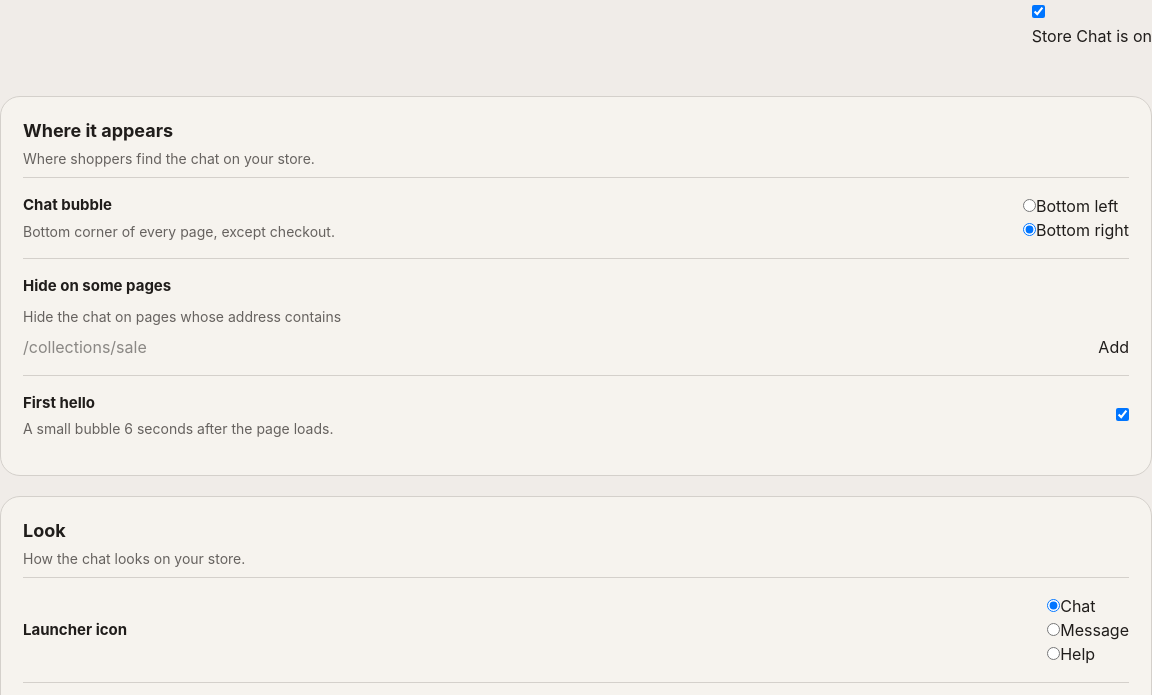
Test case: V16ChatStudio › publishes after the last change is saved
The width and height of the screenshot is (1152, 695).
What coordinates should you click on to do the following:
click the switch labelled "First hello"
I would click on:
 (1122, 415)
Its box is [1116,408,1129,421].
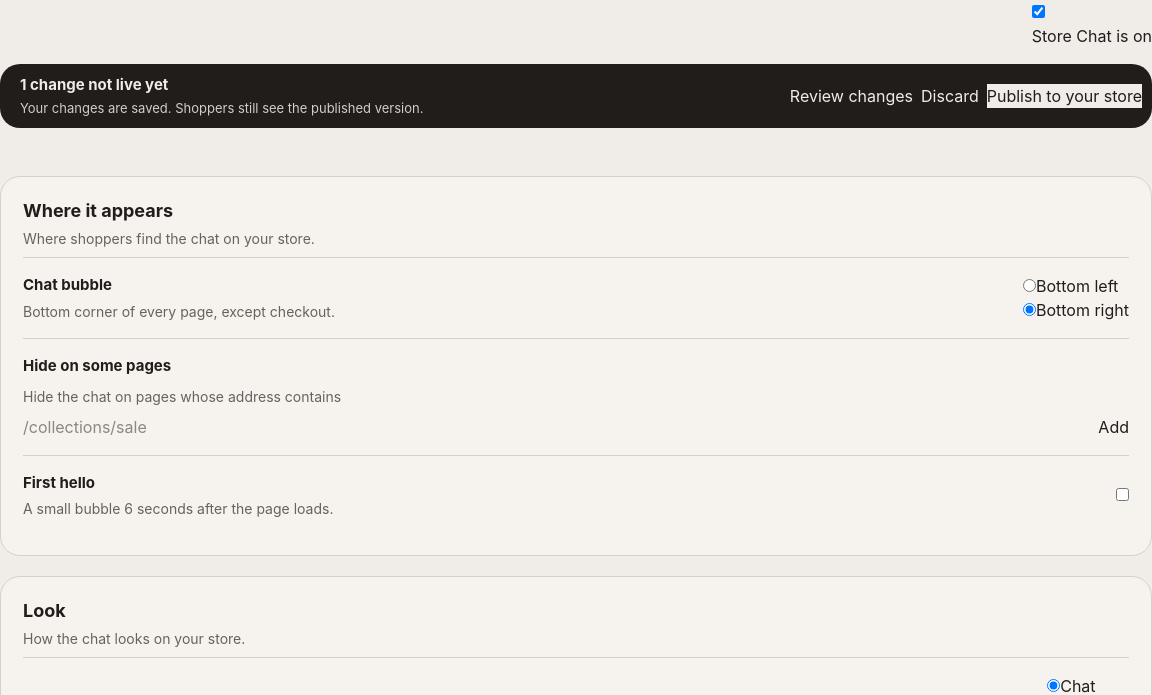
What coordinates should you click on to do the following:
click the button "Publish to your store"
I would click on:
 (1064, 96)
Its box is [987,84,1142,108].
(page scrolled)
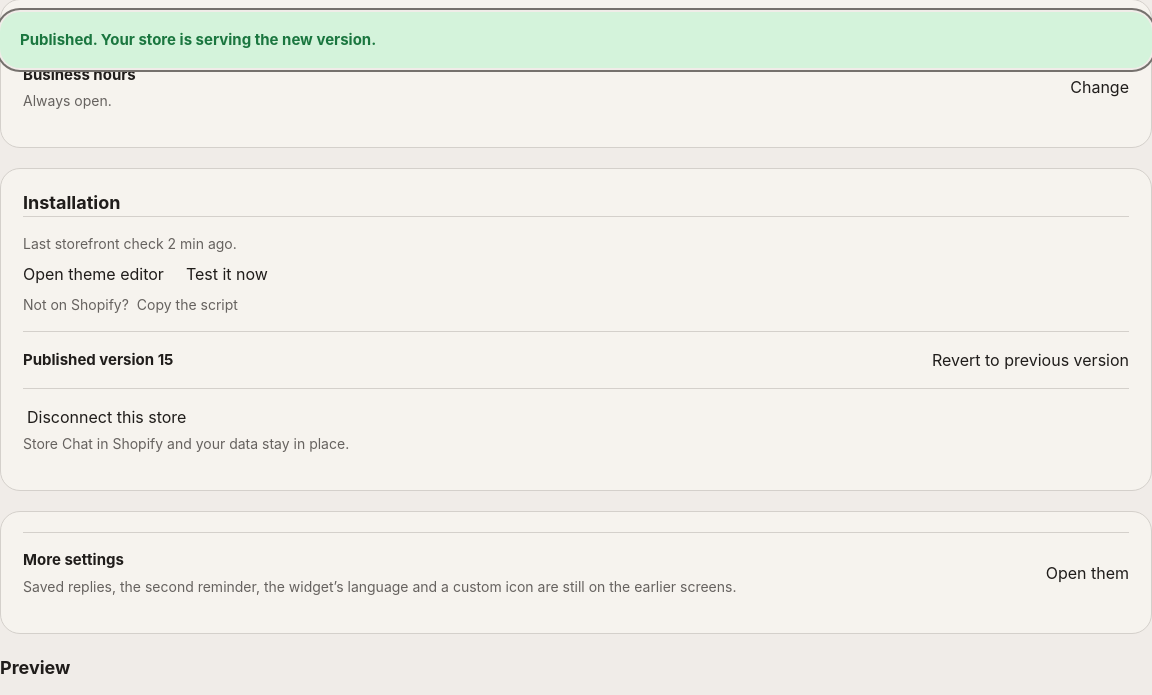
Check: the message reads "Published. Your store is serving the new version.", box [20,30,376,49]
Check: the heading "Published version 15" is shown, box [23,349,174,371]
